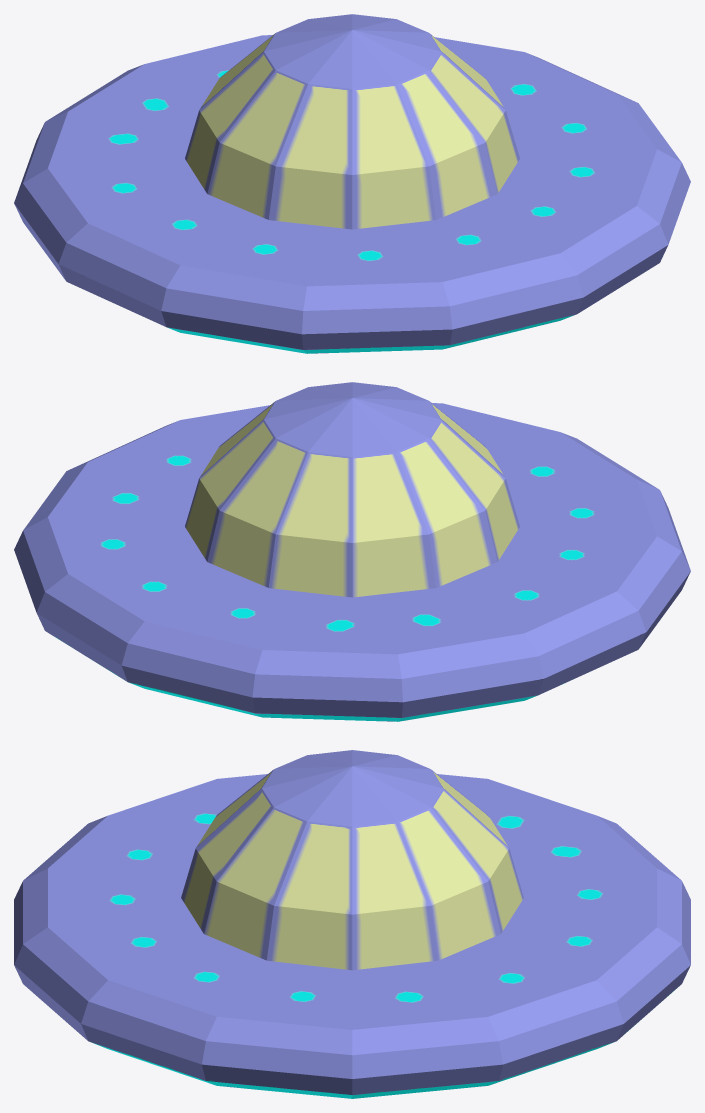
The model's file is ovni2.glb.
The picture shows the model from 3 angles, top to bottom: view 1: azimuth 30°, elevation 25°; view 2: azimuth 150°, elevation 25°; view 3: azimuth 270°, elevation 25°; orthographic projection. The views are drawn at different scales.
Visible parts, largest first — view 1: ovini; view 2: ovini; view 3: ovini.
Part boxes in pixels (x1,y1,x2,y2): ovini: (14,14,690,353); ovini: (14,382,690,721); ovini: (14,750,690,1098).
Size of the model in its own units: 22.15 by 7.74 by 21.6.
Materials: 1 (1 with a texture image).
